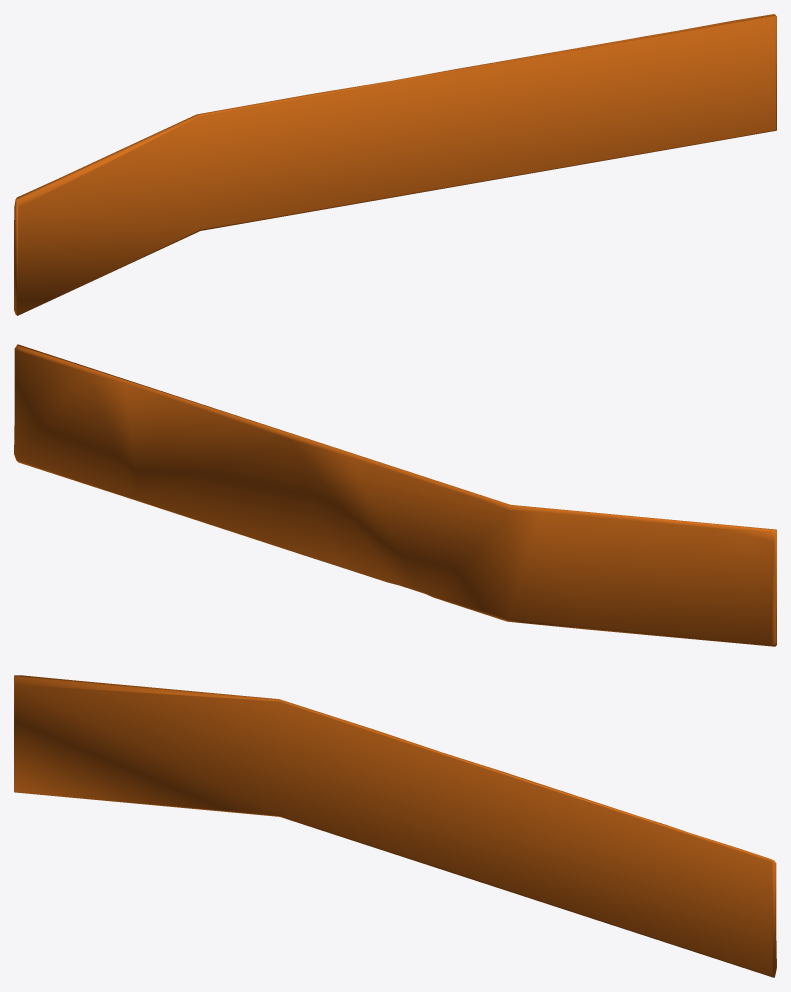
Rendered from TombstonesCoffinWood.006.fbx.
The picture shows the model from 3 angles, top to bottom: view 1: azimuth 30°, elevation 25°; view 2: azimuth 150°, elevation 25°; view 3: azimuth 330°, elevation 25°; orthographic projection.
Visible parts, largest first — view 1: TombstonesCoffinWood.006; view 2: TombstonesCoffinWood.006; view 3: TombstonesCoffinWood.006.
Part boxes in pixels (bbox=[...]): TombstonesCoffinWood.006: bbox=[14, 14, 776, 315]; TombstonesCoffinWood.006: bbox=[14, 344, 776, 646]; TombstonesCoffinWood.006: bbox=[14, 675, 776, 977].
Size of the model in its own units: 683 by 99.52 by 69.31.
